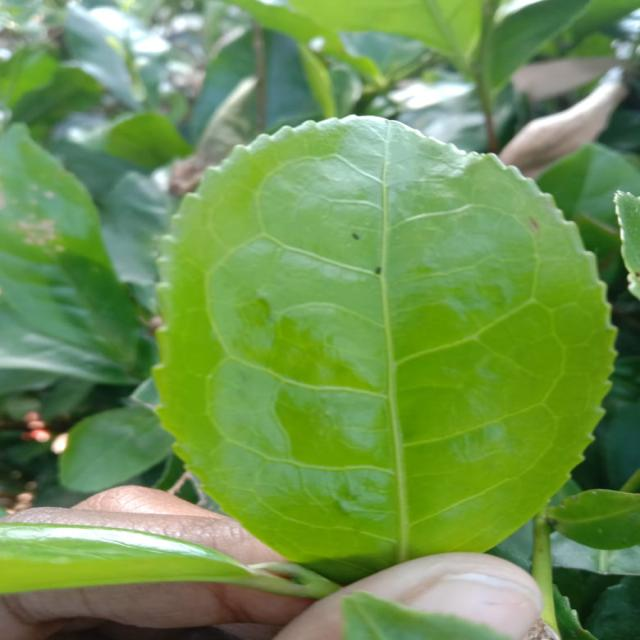Category B 2-4 days: (145, 109, 625, 607)
